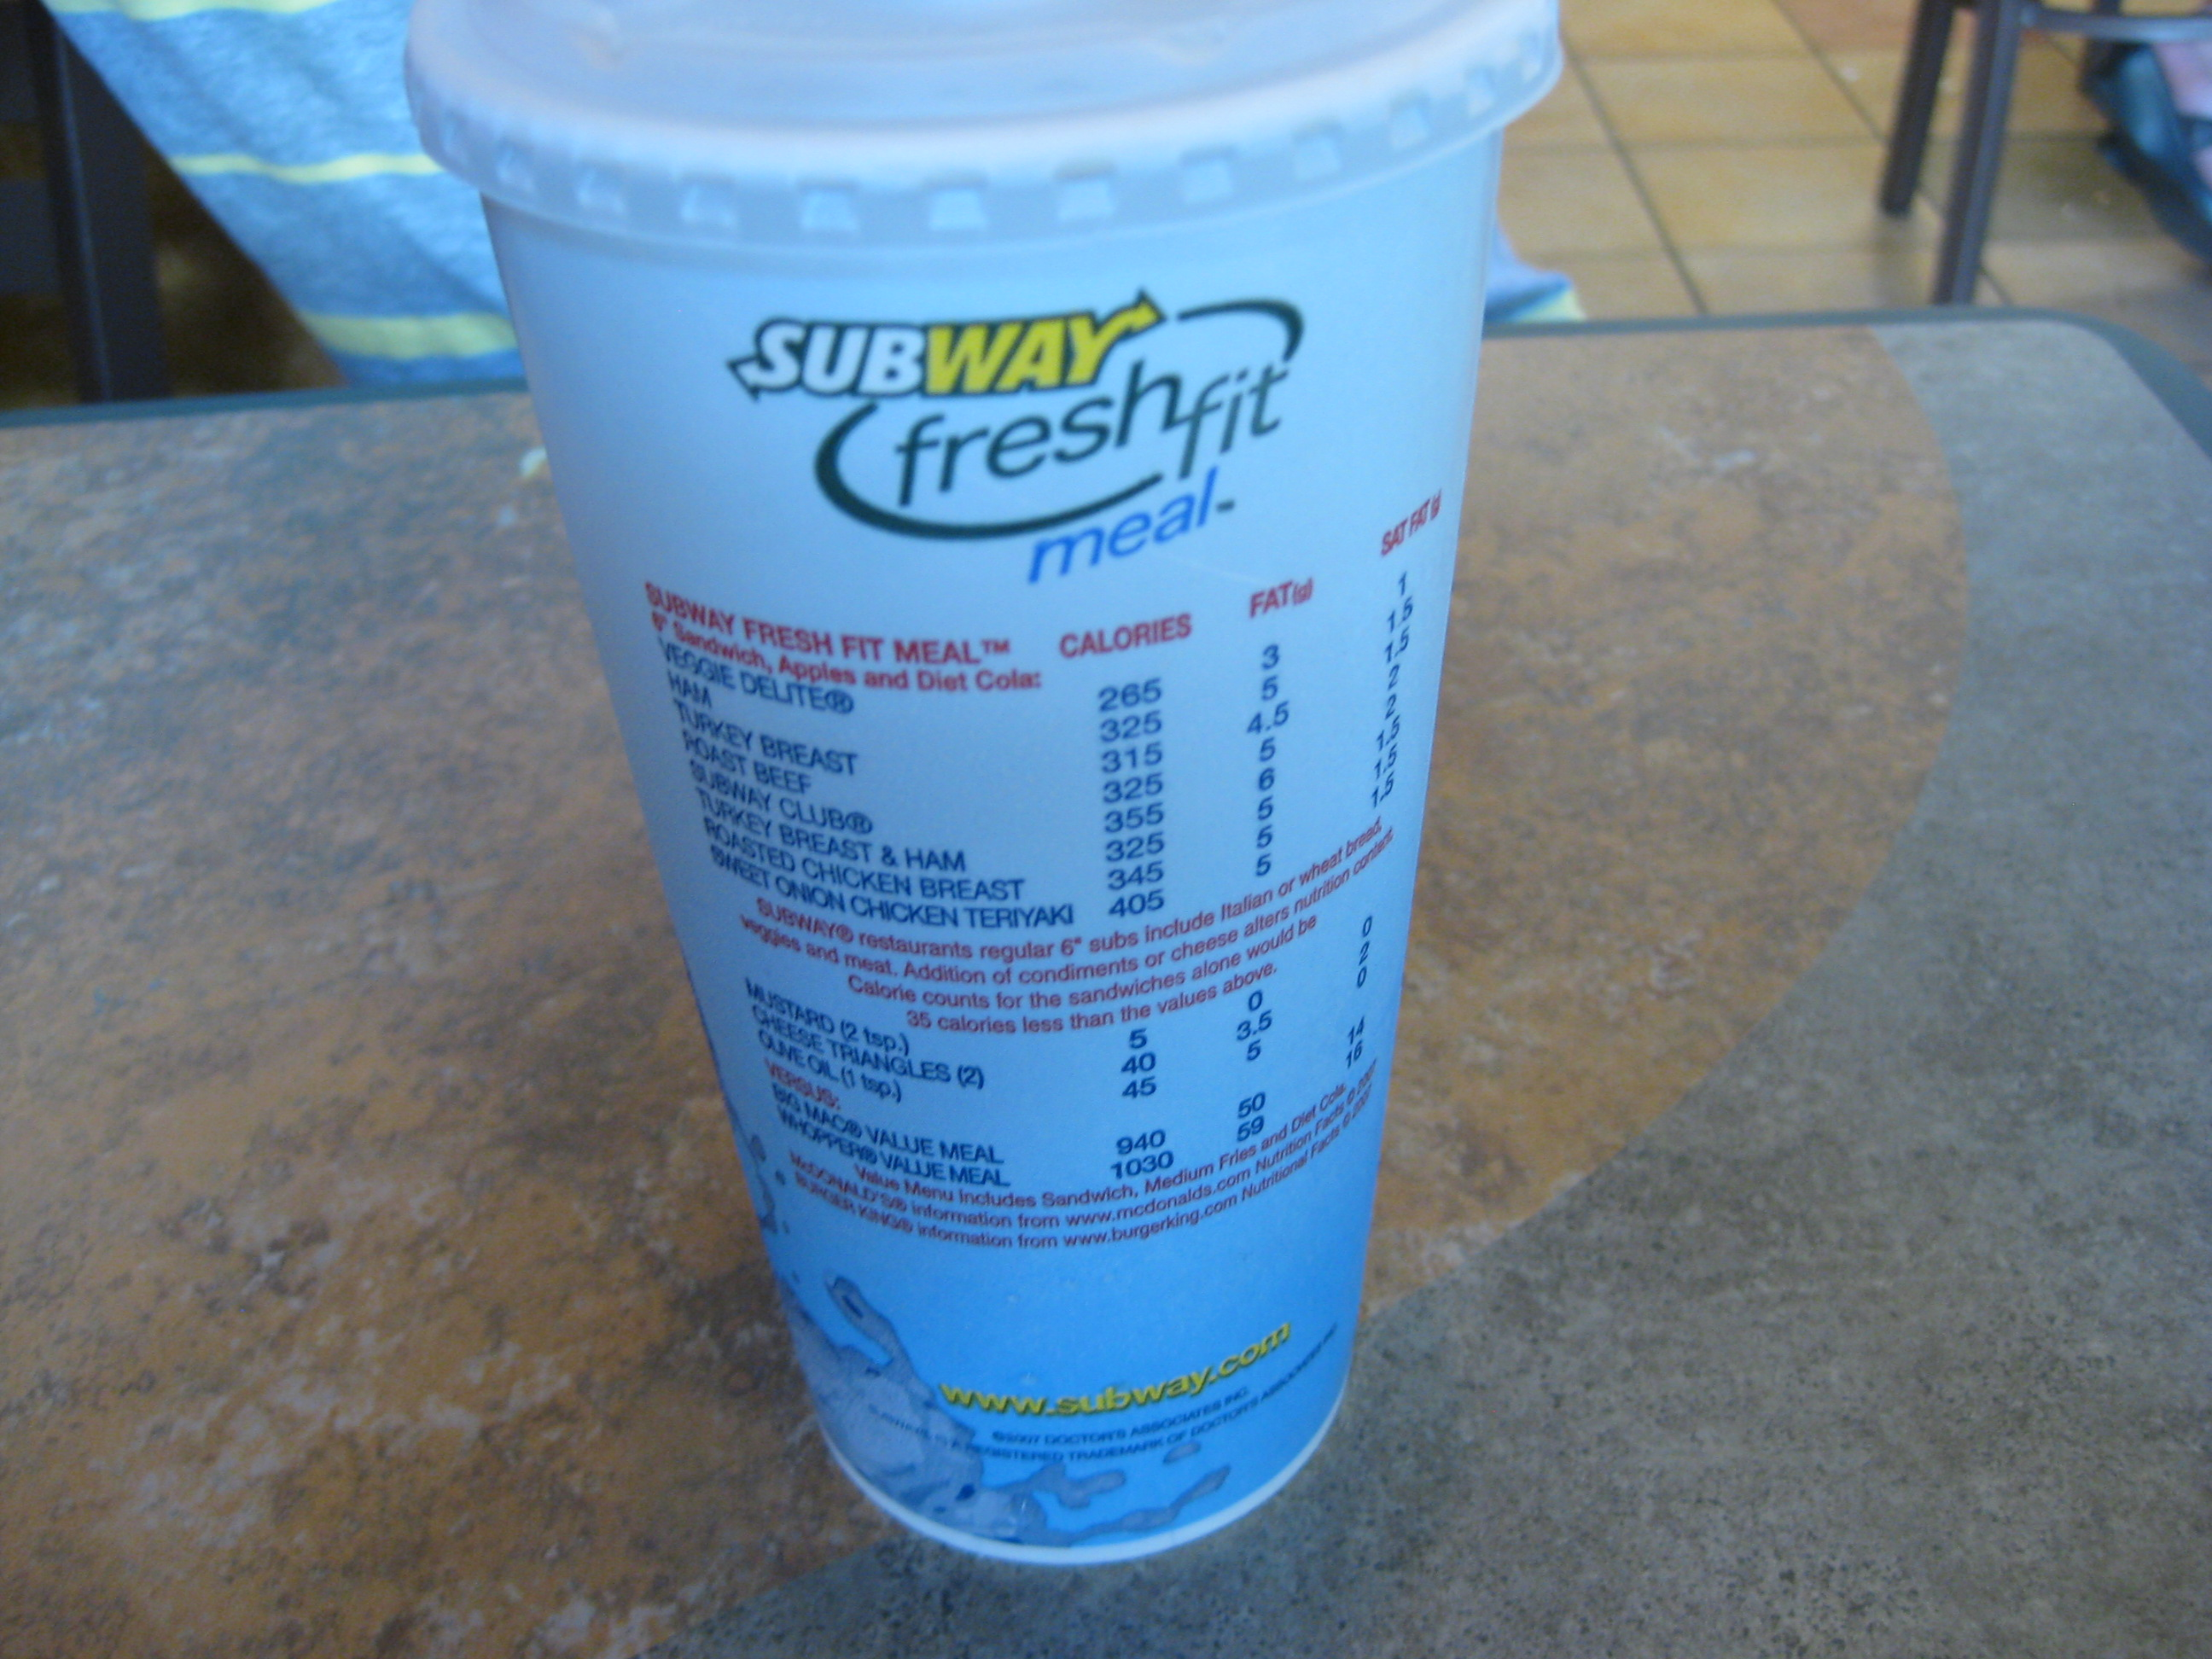drink: (396, 6, 1638, 1574)
